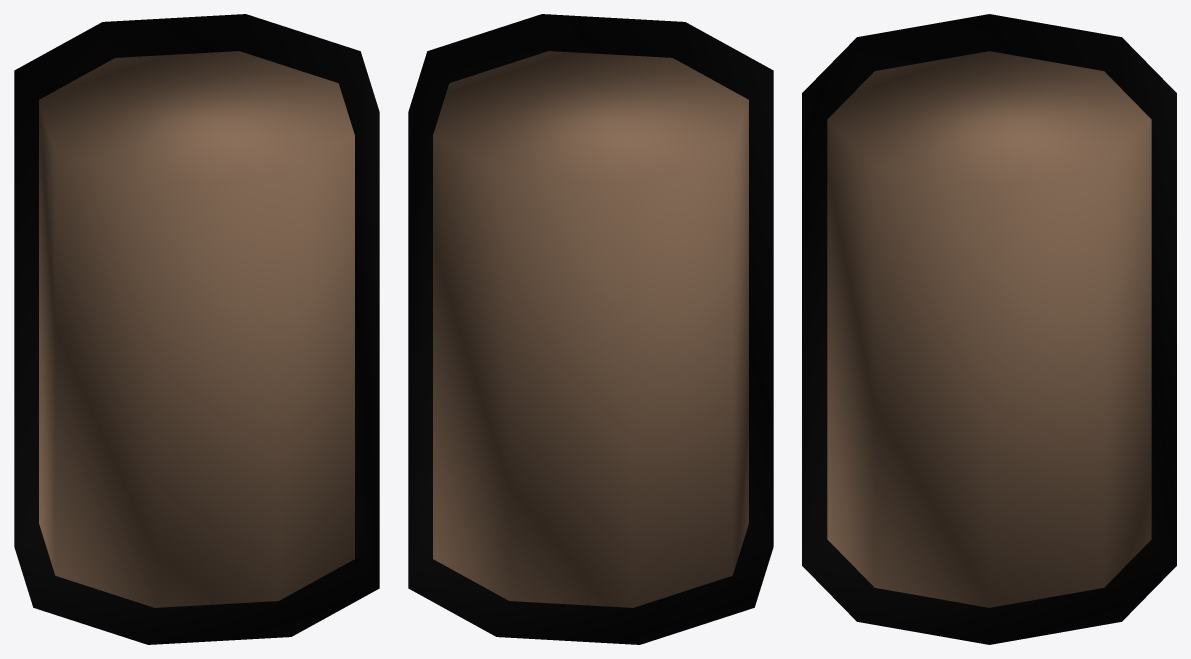
The model's file is Pastilha Velha.fbx.
3 renders of one model, left to right at view 1: azimuth 30°, elevation 25°; view 2: azimuth 150°, elevation 25°; view 3: azimuth 270°, elevation 25°, orthographic.
Parts seen in each view (by area): view 1: Pastilhha Velha; view 2: Pastilhha Velha; view 3: Pastilhha Velha.
Part boxes in pixels (<box>): Pastilhha Velha: <box>14,14,379,644</box>; Pastilhha Velha: <box>408,14,773,644</box>; Pastilhha Velha: <box>802,14,1176,644</box>.
Bounding box in the file's own units: 17.95 × 24.97 × 17.95.
